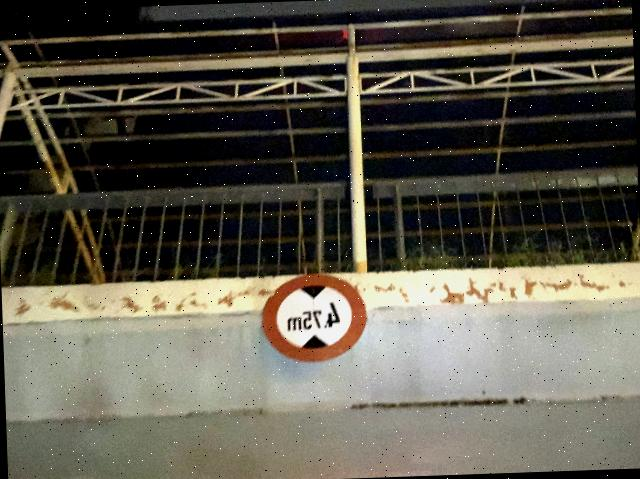han-che-chieu-cao: (261, 272, 367, 364)
